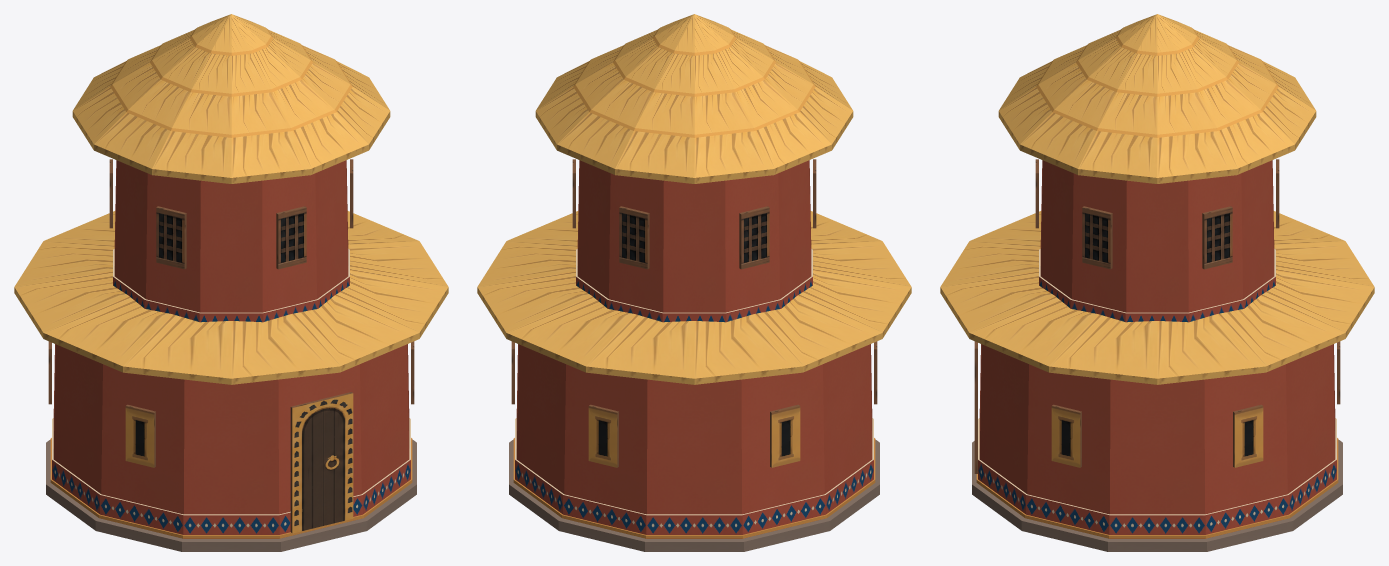
The model's file is SM_RC_MudHut_Round_2F_Setback.gltf.
3 views of the same model, side by side, from view 1: azimuth 30°, elevation 25°; view 2: azimuth 150°, elevation 25°; view 3: azimuth 270°, elevation 25° (orthographic).
Visible parts, largest first — view 1: SM_RC_WA_MudHut_Round_2F_Setback_RoofFixed; view 2: SM_RC_WA_MudHut_Round_2F_Setback_RoofFixed; view 3: SM_RC_WA_MudHut_Round_2F_Setback_RoofFixed.
Boxes of the visible parts, bbox=[...] form: SM_RC_WA_MudHut_Round_2F_Setback_RoofFixed: bbox=[14, 14, 448, 551]; SM_RC_WA_MudHut_Round_2F_Setback_RoofFixed: bbox=[477, 14, 911, 551]; SM_RC_WA_MudHut_Round_2F_Setback_RoofFixed: bbox=[940, 14, 1374, 551].
Bounding box in the file's own units: 8.94 × 10.44 × 8.94.
1 material, 1 textured.
